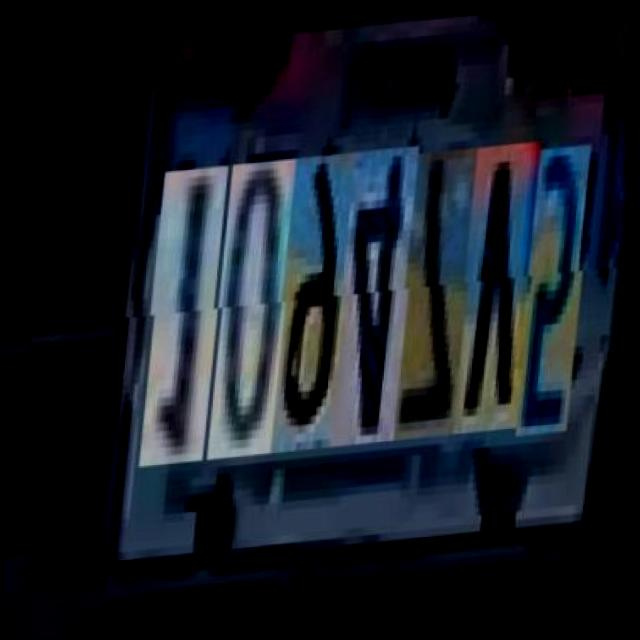1: (131, 171, 223, 472)
4: (322, 155, 413, 456)
5: (508, 156, 586, 448)
7: (386, 158, 472, 450)
9: (264, 162, 350, 460)
o: (200, 165, 290, 466)
v: (446, 153, 537, 445)
